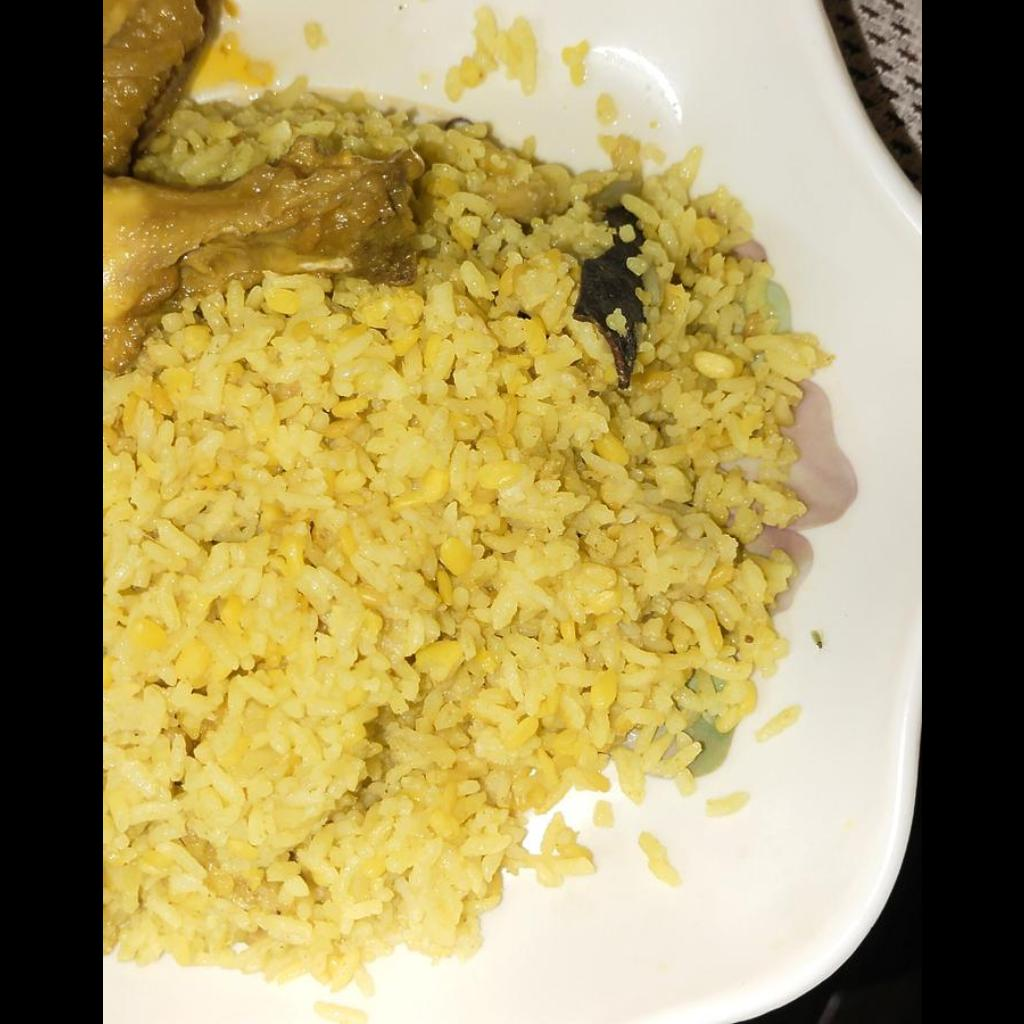chicken: (102, 0, 401, 370)
khichuri: (102, 84, 823, 981)
